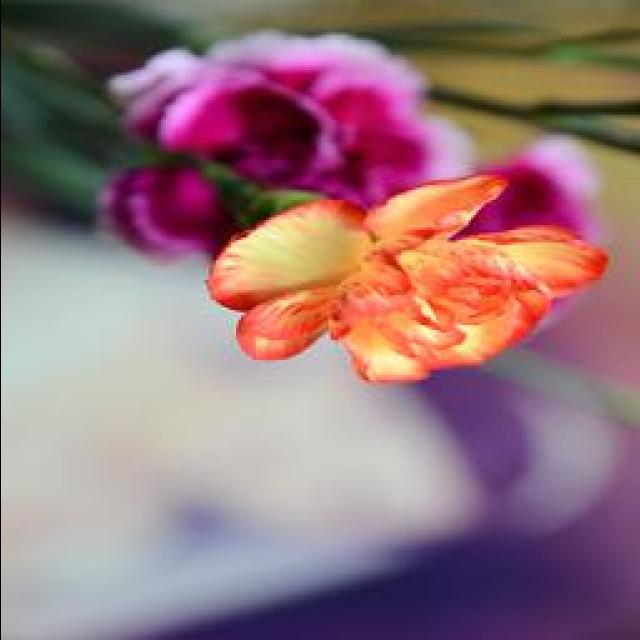carnation: (207, 165, 611, 396)
